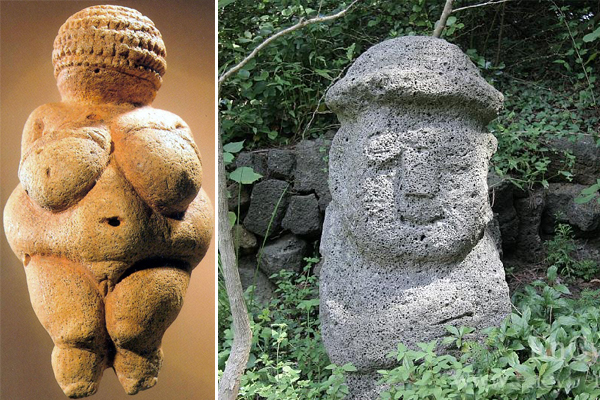Stone Statue: (302, 23, 541, 400)
